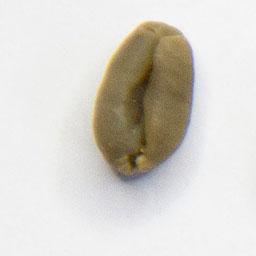peaberry: (88, 16, 200, 179)
